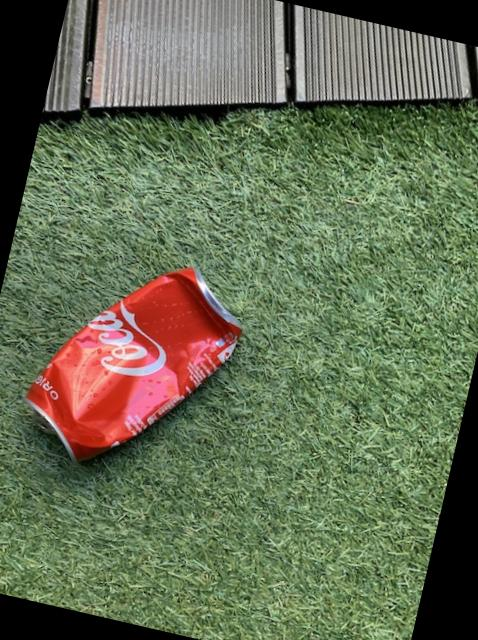metal: (25, 270, 241, 462)
